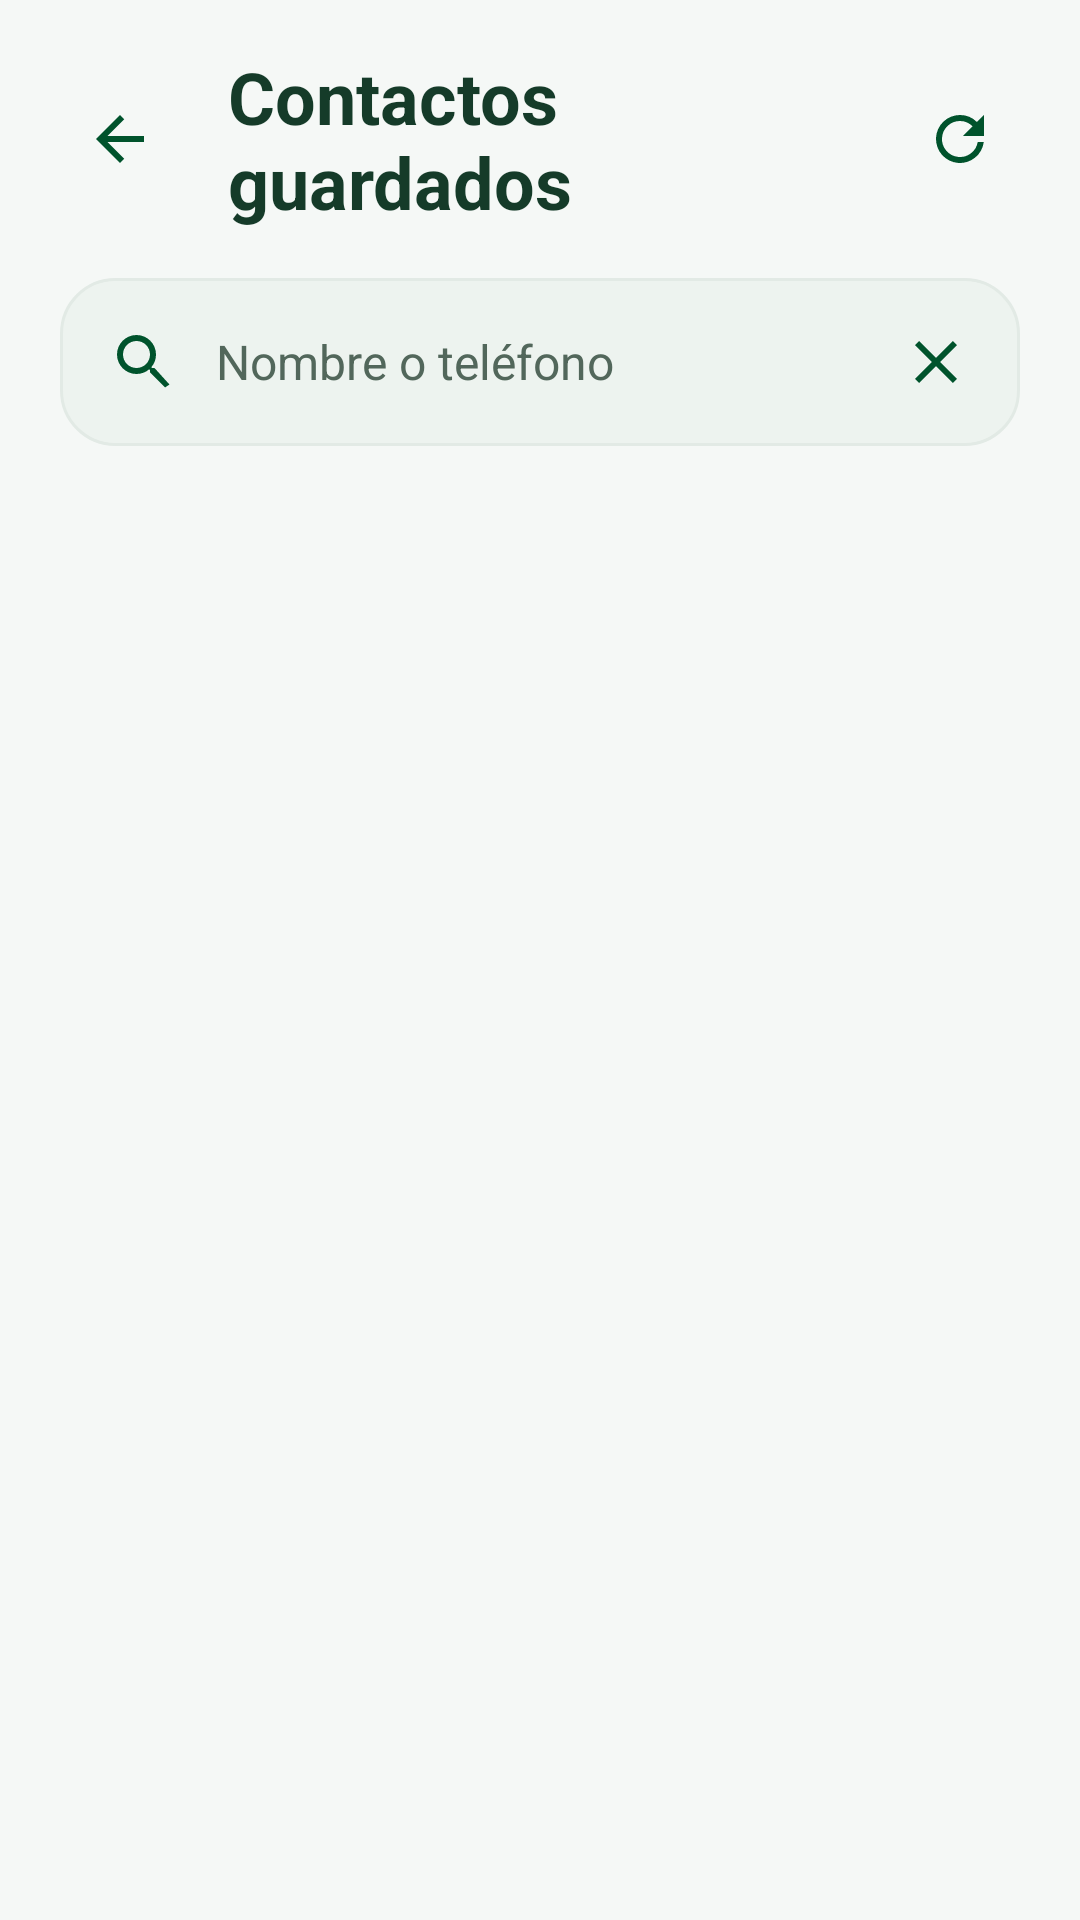

Named icons in this screenshot (1080w x 1920h) and their centers, (x,y):
Actualizar lista: (960,139)
Buscar: (143,361)
Limpiar: (936,362)
Regresar: (120,139)
